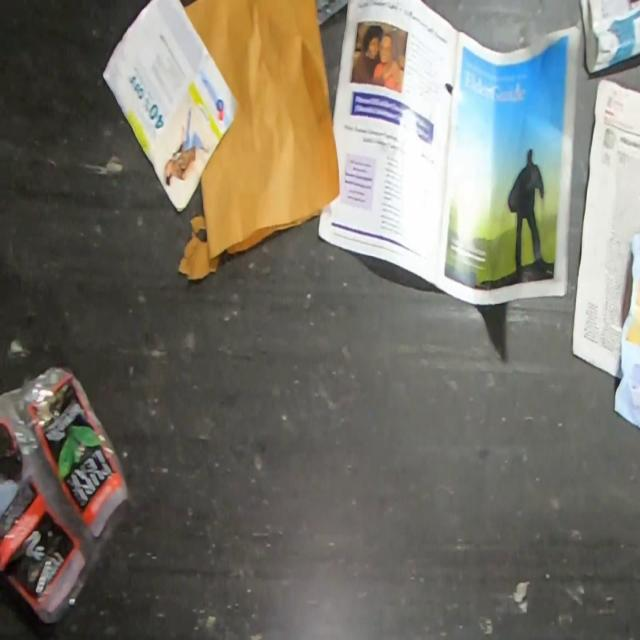soft_plastic: (0, 363, 133, 624)
